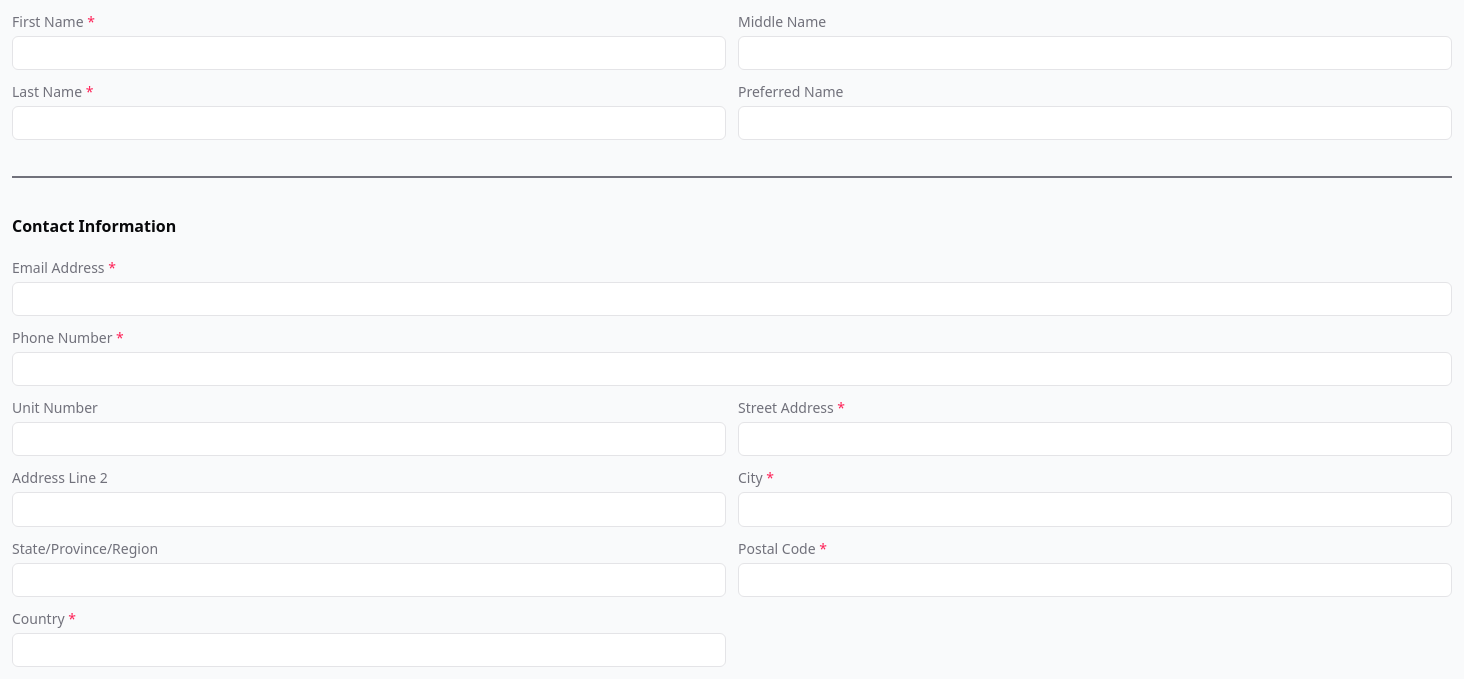
Test: EmployeeForm › Should render schema errors when invalid values are entered and submitted
Type "sarah.jenkins" into the field labelled "Email Address *". click: (732, 299)
box: [12, 282, 1452, 316]
Type "+6141234567891011121314" into the field labelled "Phone Number *". click: (732, 369)
box: [12, 352, 1452, 386]
(page scrolled)
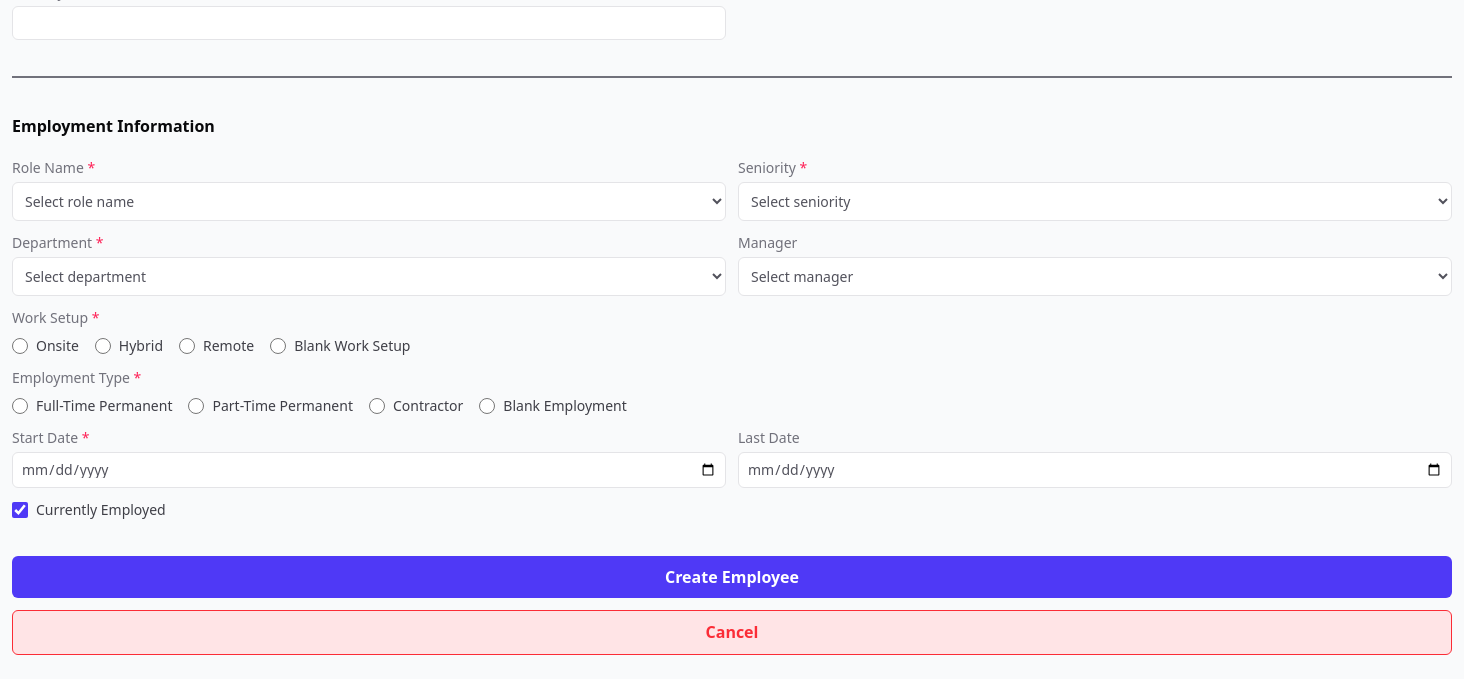
Click the radio button labelled "Blank Employment". click: click(487, 406)
box: [479, 398, 495, 414]
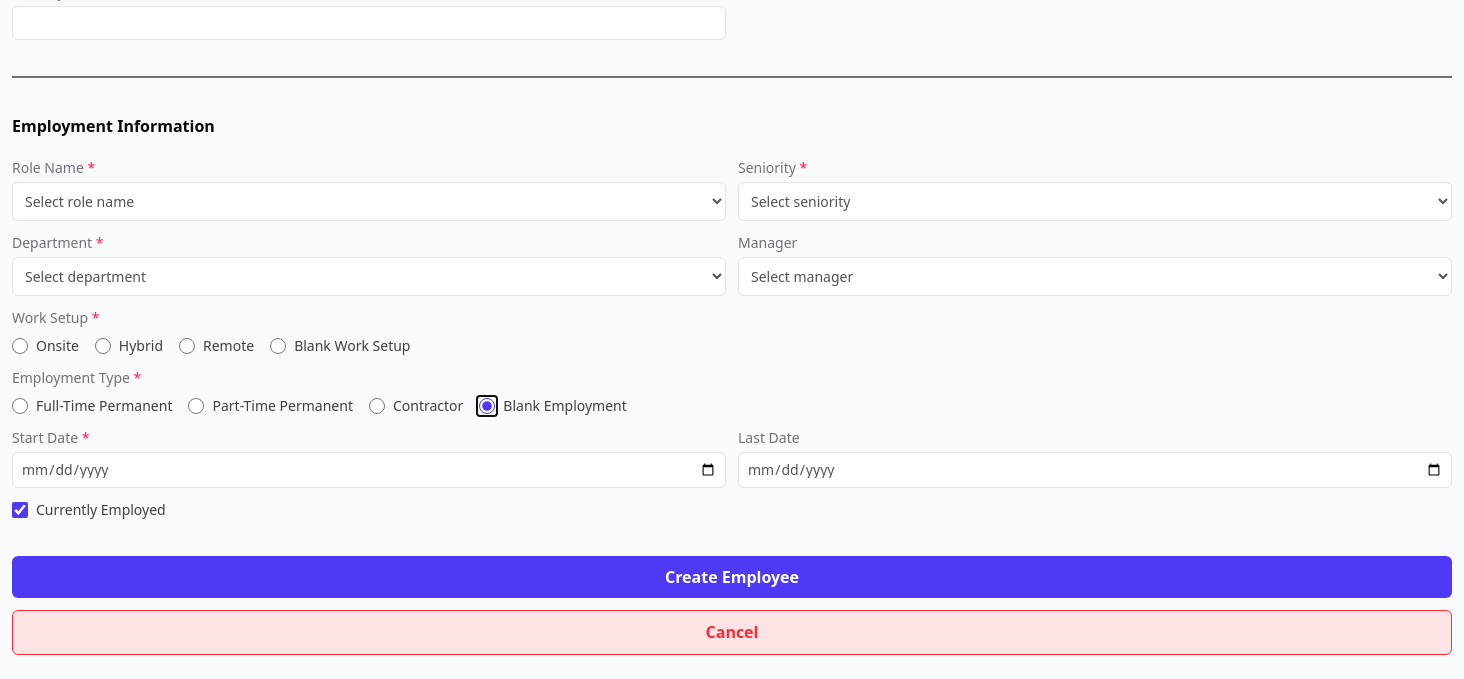
Click the radio button labelled "Blank Work Setup". click: click(278, 346)
box: [270, 338, 286, 354]
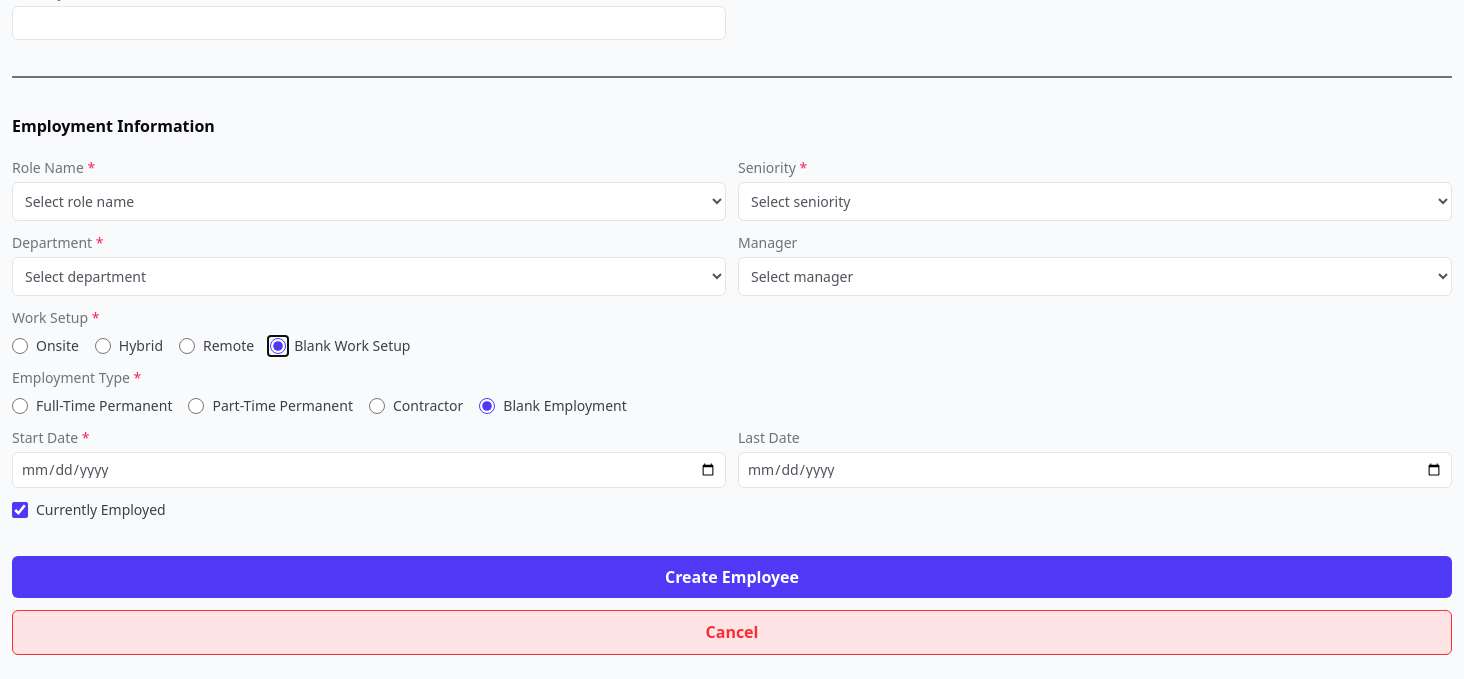
Type "2026-03-15" into the date field labelled "Start Date *". click: (369, 470)
box: [12, 452, 726, 488]
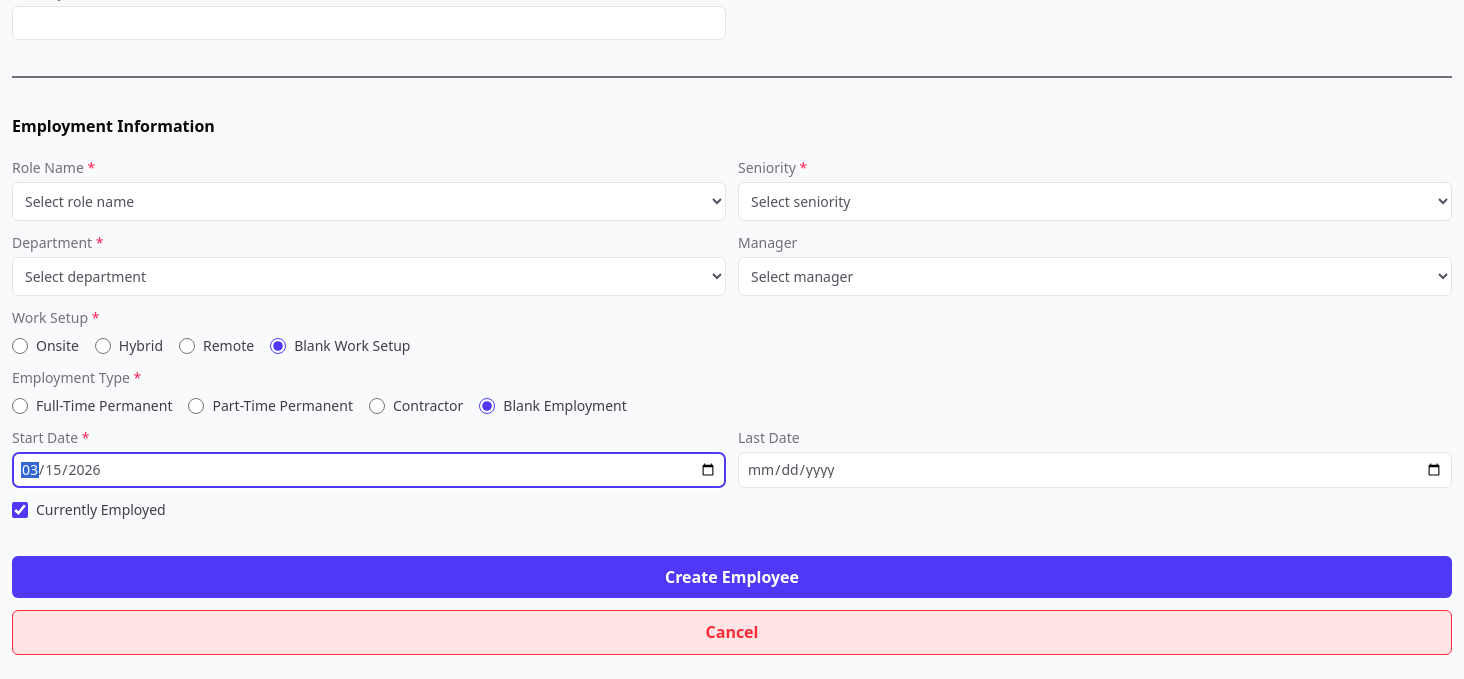
Type "2025-03-15" into the date field labelled "Last Date". click: (1095, 470)
box: [738, 452, 1452, 488]
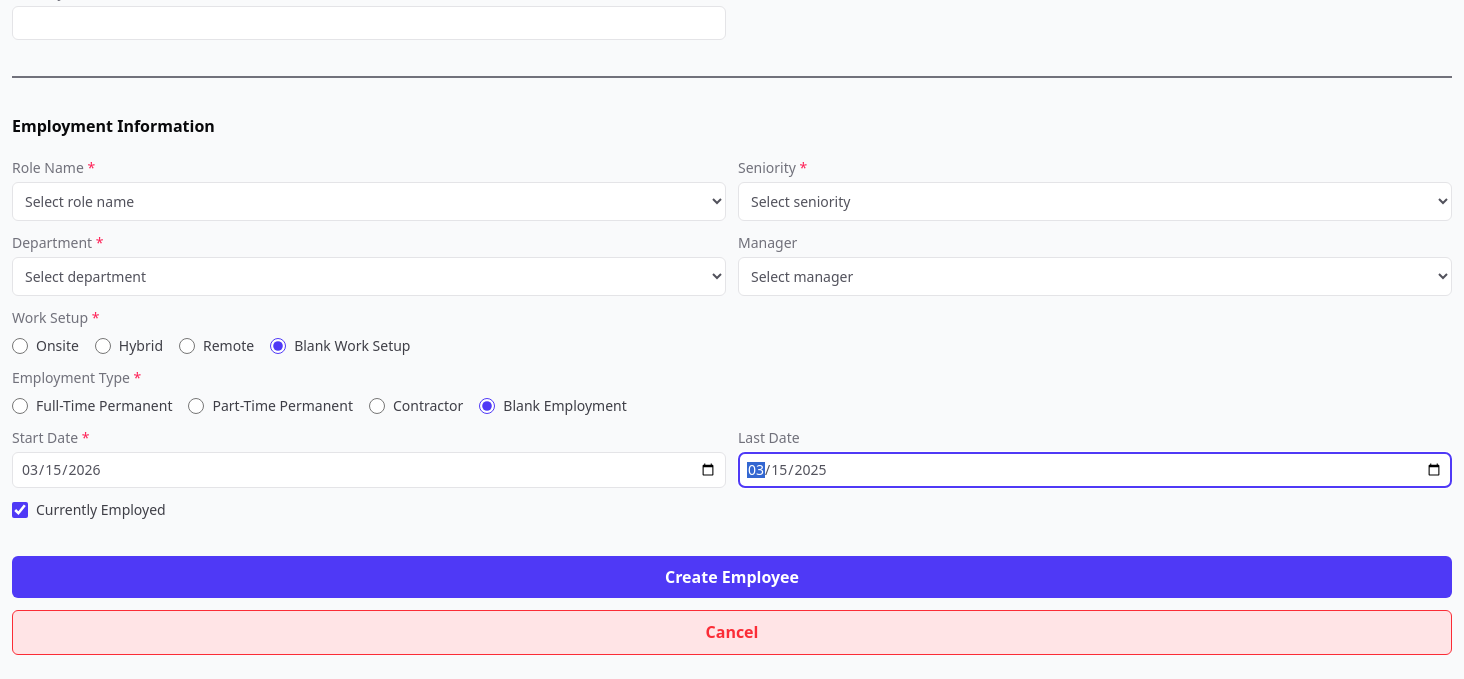
Click the button "Create Employee". click: click(732, 577)
box: [12, 556, 1452, 598]
(page scrolled)
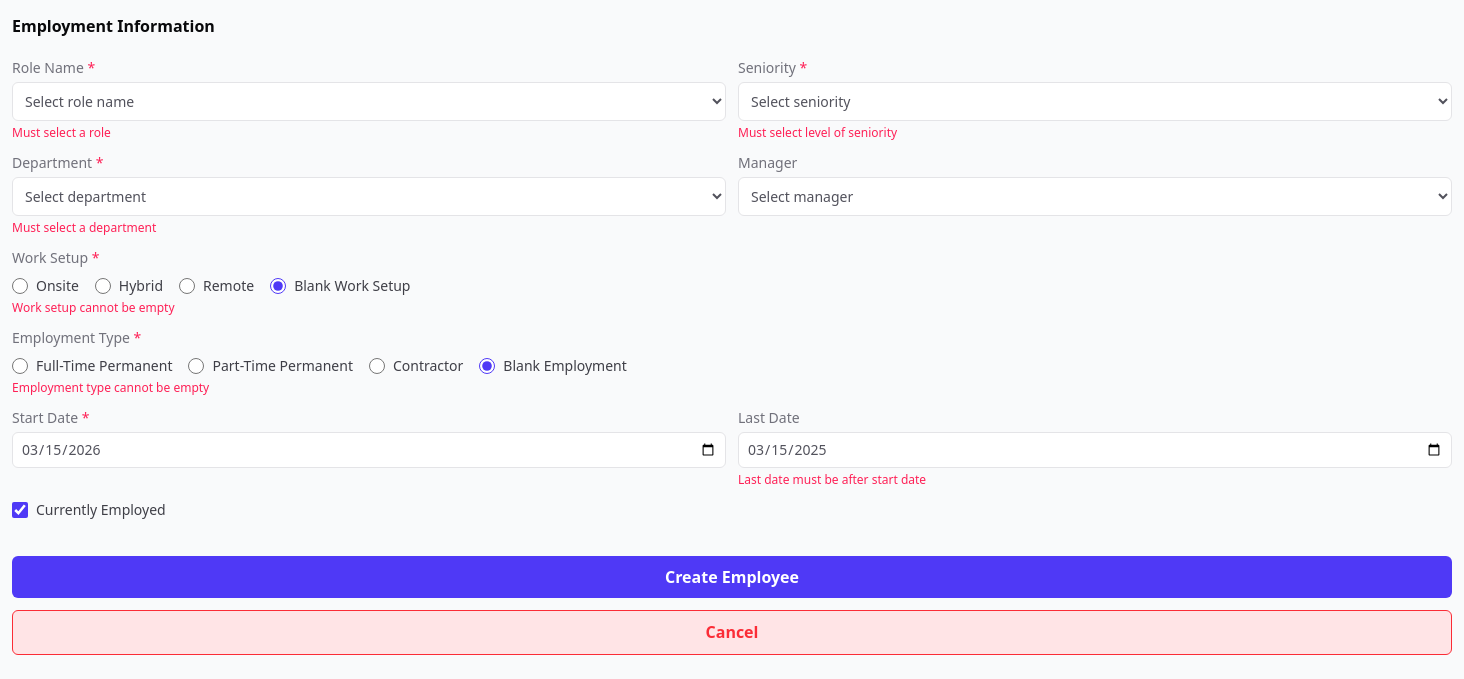
expect the text "Work setup cannot be empty" is shown: met, box [12, 299, 175, 316]
expect the text "Employment type cannot be empty" is shown: met, box [12, 379, 209, 396]
expect the text "Last date must be after start date" is shown: met, box [738, 471, 926, 488]
